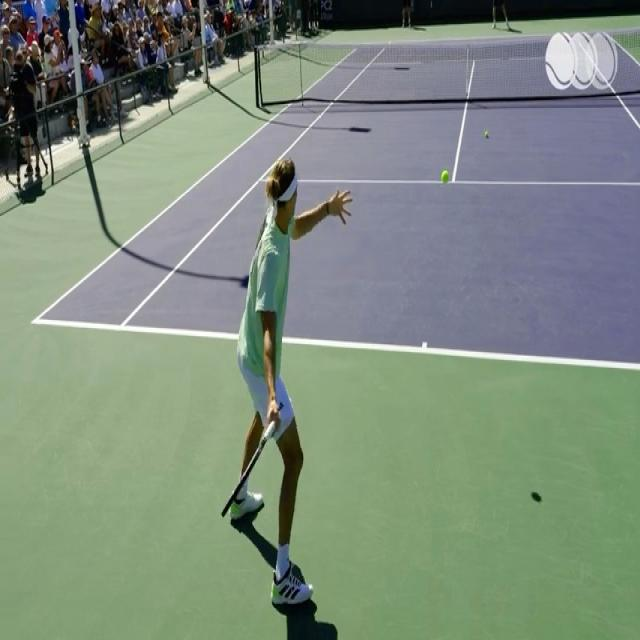forehand-stroke: (213, 160, 354, 613)
